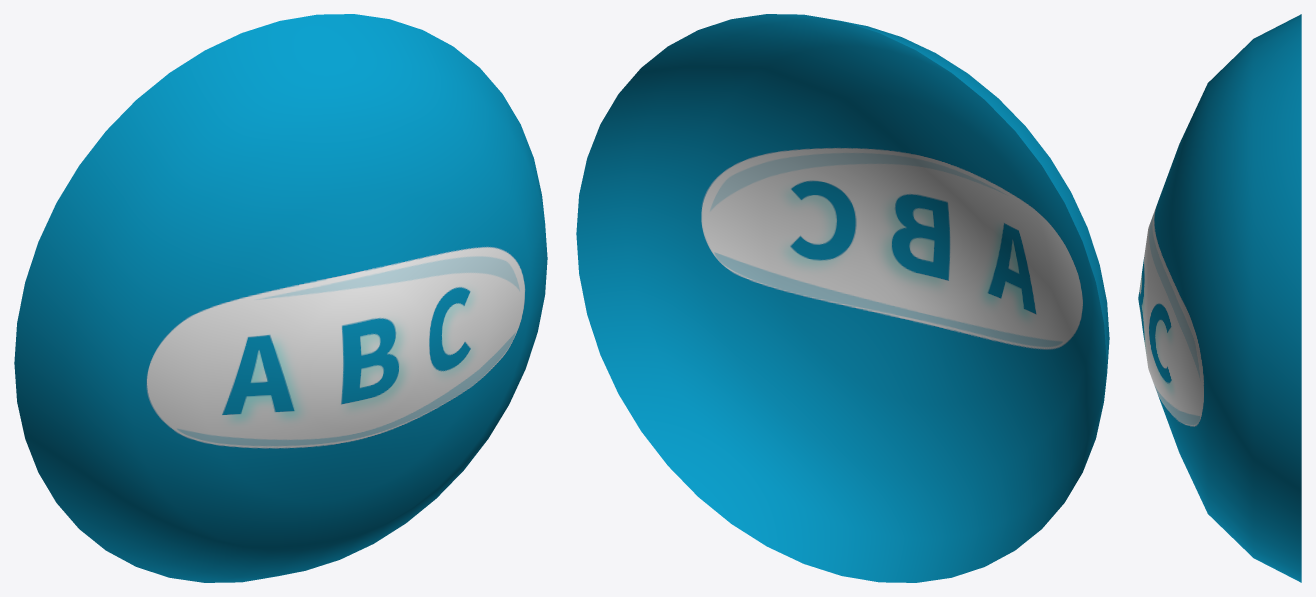
File: Icon_multivit_Pildora_01.glb
The picture shows the model from 3 angles, left to right: view 1: azimuth 30°, elevation 25°; view 2: azimuth 150°, elevation 25°; view 3: azimuth 270°, elevation 25°; orthographic projection. The views are drawn at different scales.
Parts seen in each view (by area): view 1: Cylinder.004; view 2: Cylinder.004; view 3: Cylinder.004.
Boxes of the visible parts, x1=… form: Cylinder.004: x1=14, y1=14, x2=547, y2=582; Cylinder.004: x1=576, y1=14, x2=1109, y2=582; Cylinder.004: x1=1138, y1=14, x2=1301, y2=582.
Bounding box in the file's own units: 0.0859 × 0.0859 × 0.0247.
1 material, 1 textured.
